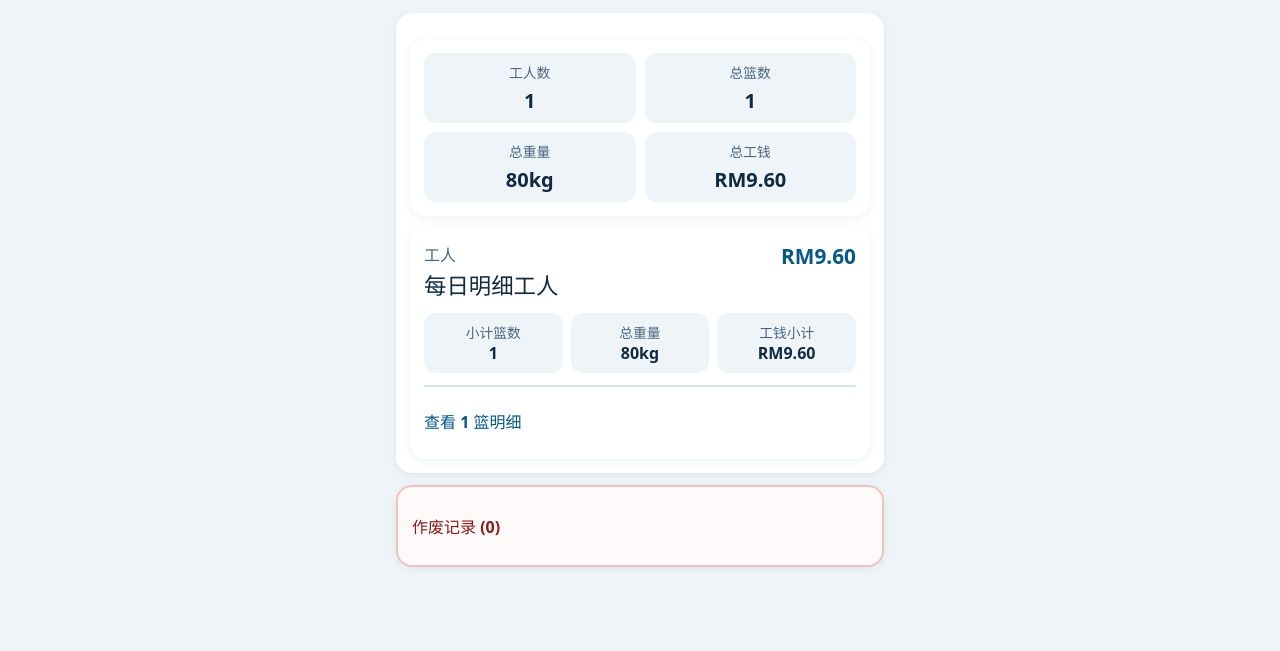
Test: daily wage route compatibility › /daily opens the actual daily detail page with its saved URL date
(page scrolled)
Check: the heading "每日明细工人" is shown, box [424, 268, 558, 301]
Step 1. Click the heading "查看 1 篮明细" → (473, 422), box [424, 411, 522, 433]
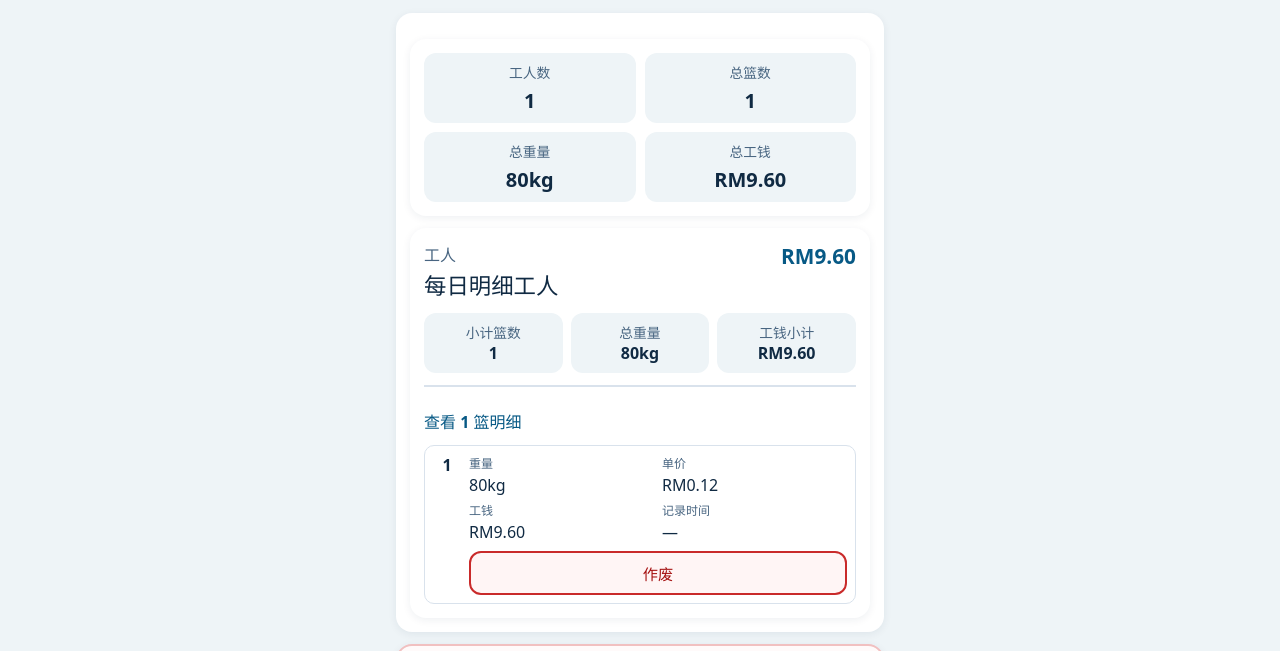
Check: the number of rows is 2
Check: the cell "80kg" is shown, box [469, 454, 654, 496]
Check: the cell "RM0.12" is shown, box [662, 454, 847, 496]
